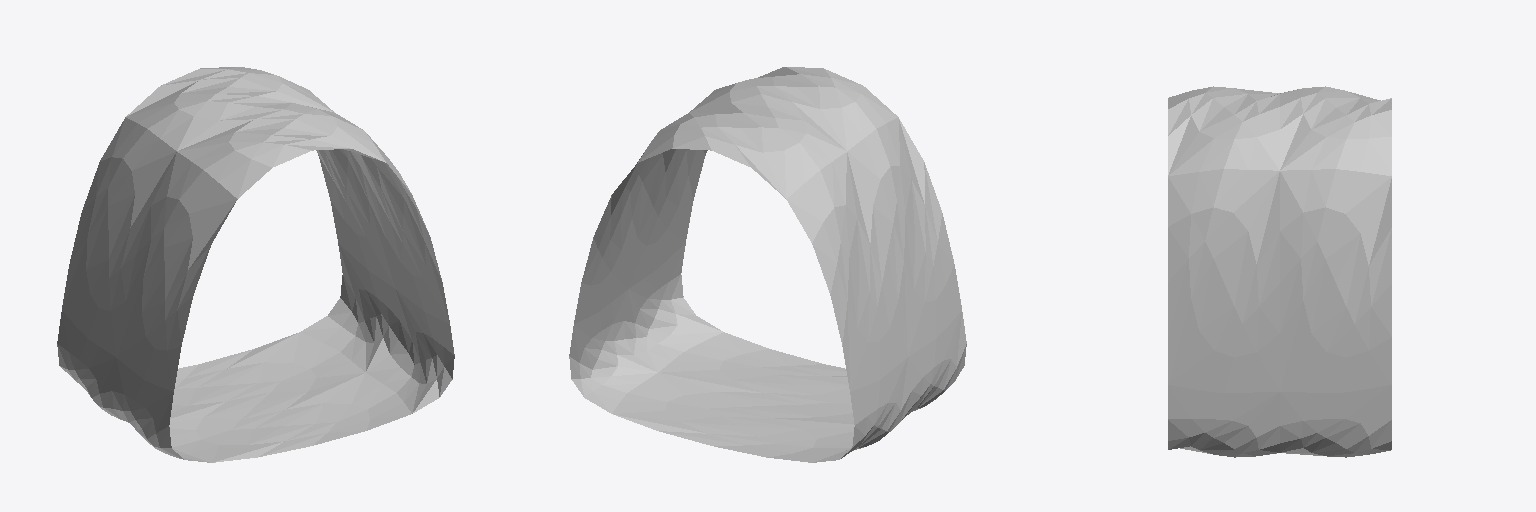
Rendered from cave_0_0.obj.
3 views of the same model, side by side, from view 1: azimuth 30°, elevation 25°; view 2: azimuth 150°, elevation 25°; view 3: azimuth 270°, elevation 25° (orthographic).
Visible parts, largest first — view 1: cave_0_0_Cube; view 2: cave_0_0_Cube; view 3: cave_0_0_Cube.
Boxes of the visible parts, x1=… form: cave_0_0_Cube: x1=57, y1=67, x2=454, y2=462; cave_0_0_Cube: x1=569, y1=67, x2=966, y2=462; cave_0_0_Cube: x1=1168, y1=86, x2=1391, y2=457.
Bounding box in the file's own units: 5.95 × 5.9 × 4.